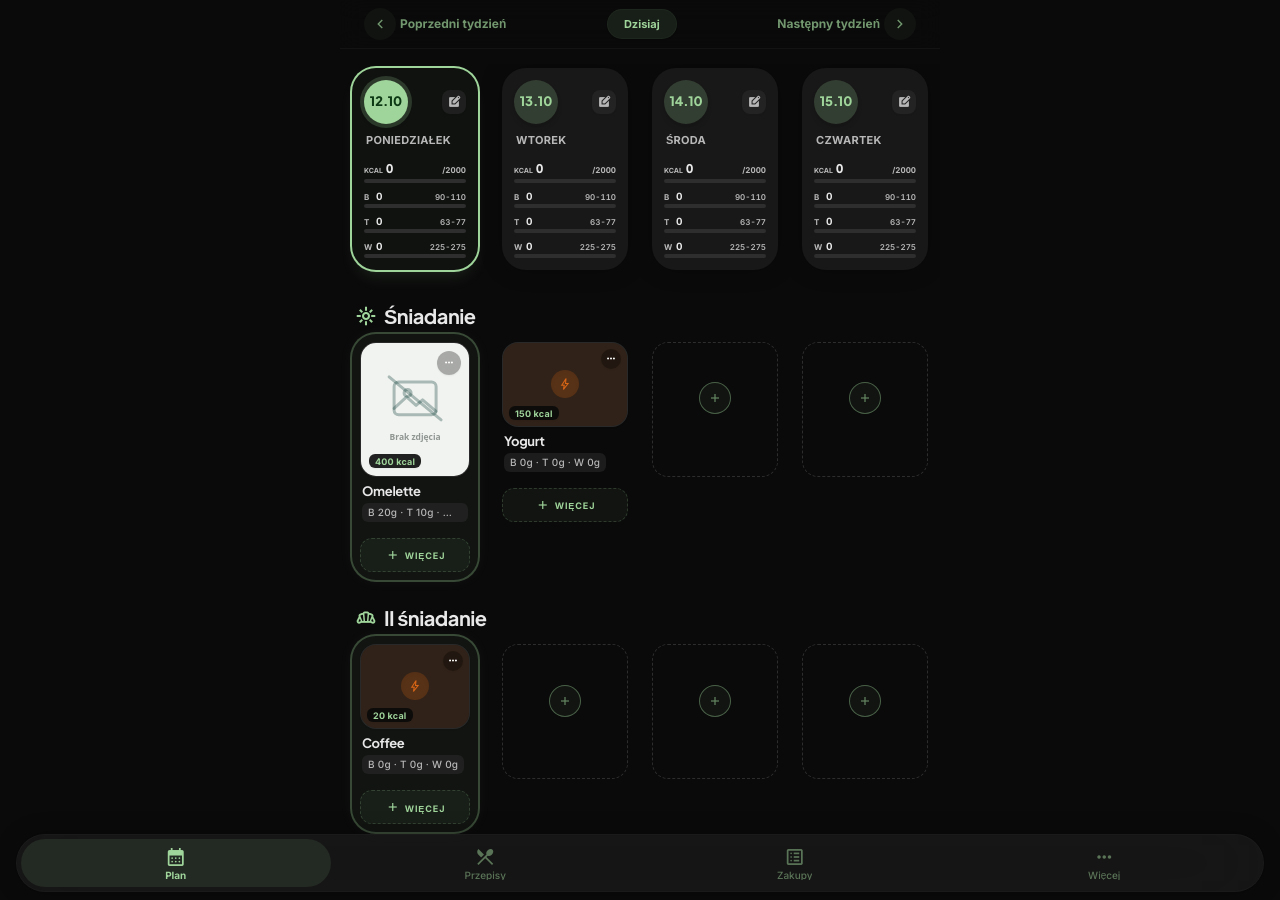
it: Plan copying › copies an item to the next day straight away when the slot is empty
This screenshot has width=1280, height=900.
Click the 7th button "more_horiz": click(453, 661) [443, 651, 463, 671]
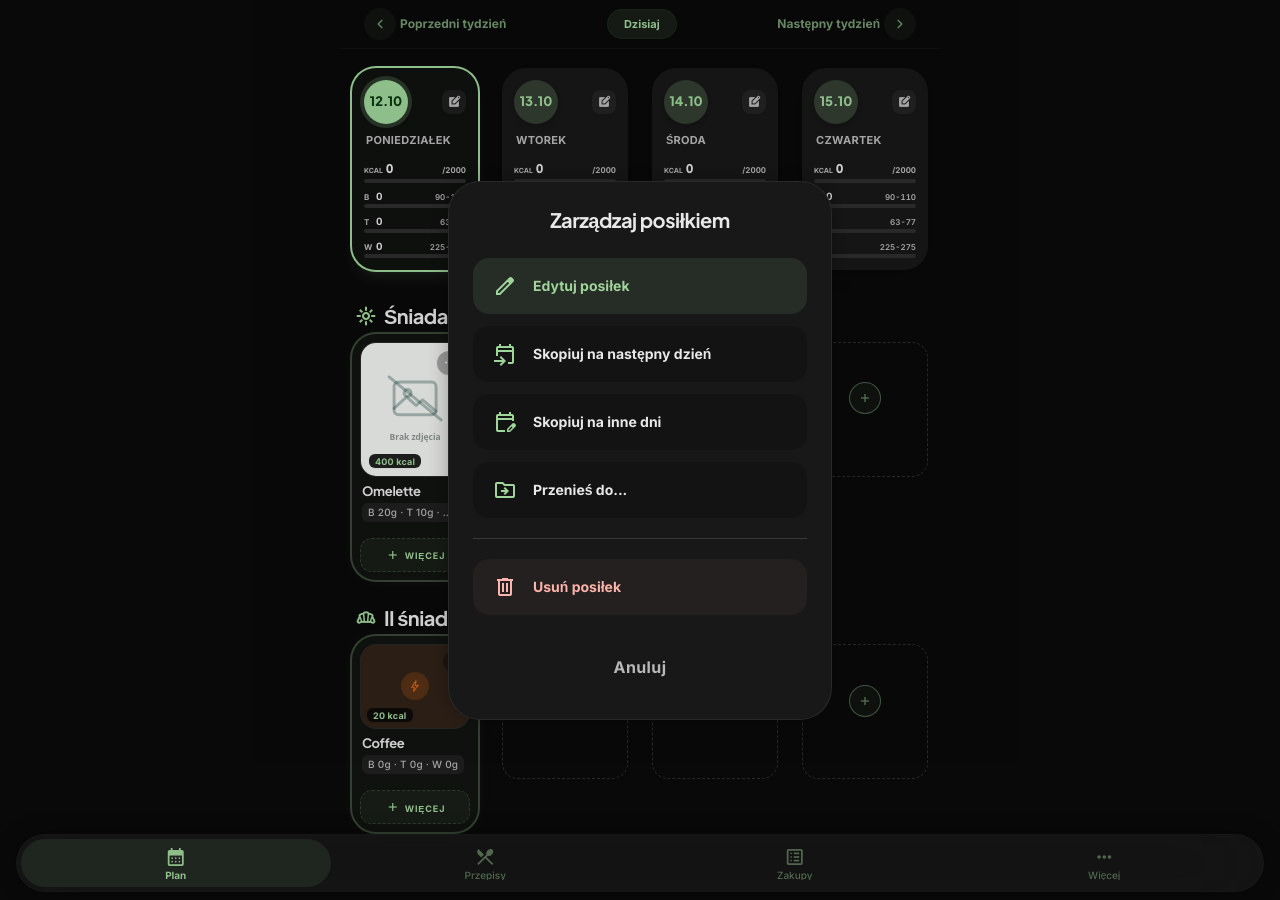
Click the button "Skopiuj na następny dzień": click(640, 354) [473, 326, 807, 382]
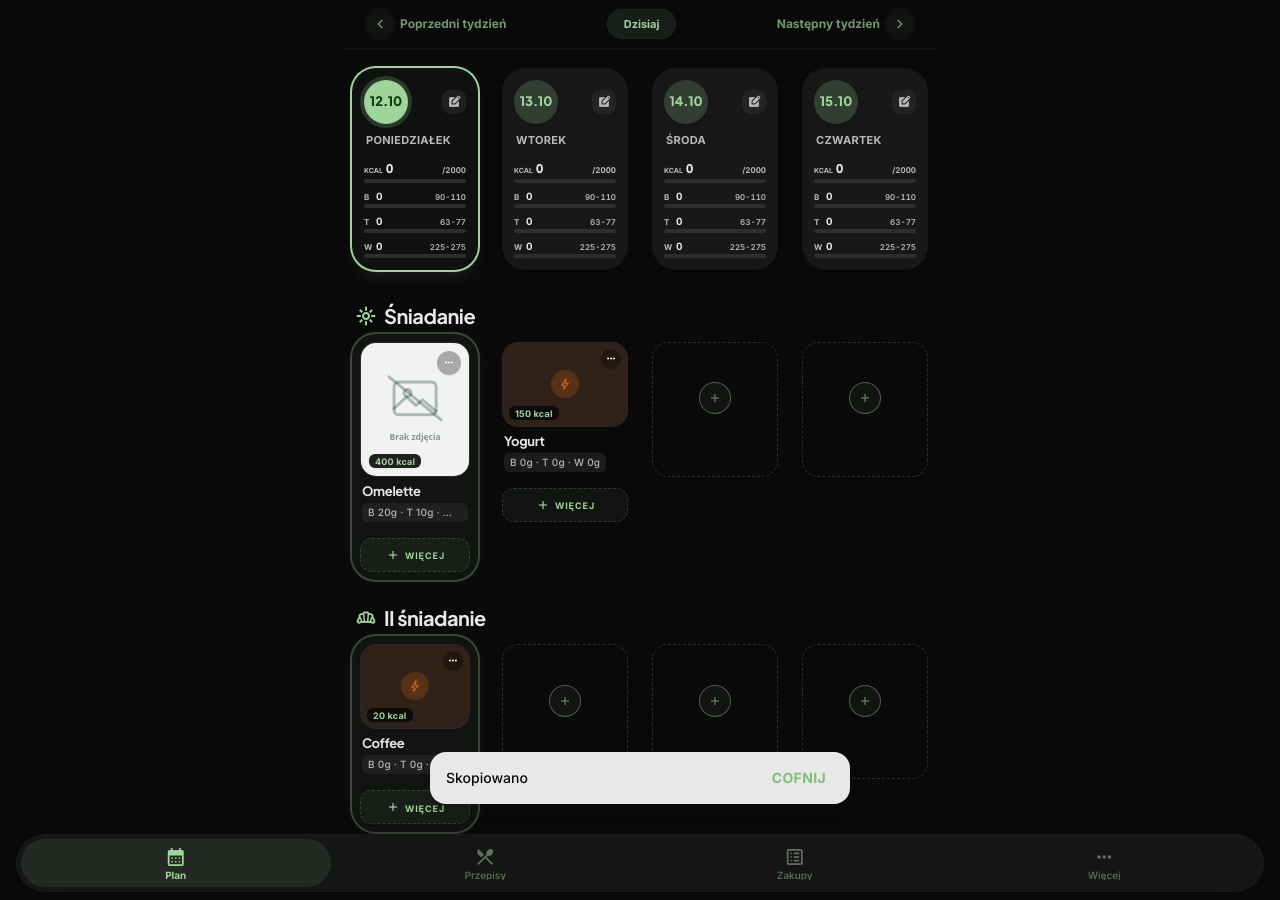
Expected: the text "Skopiowano" is shown, [446, 768, 528, 788]
